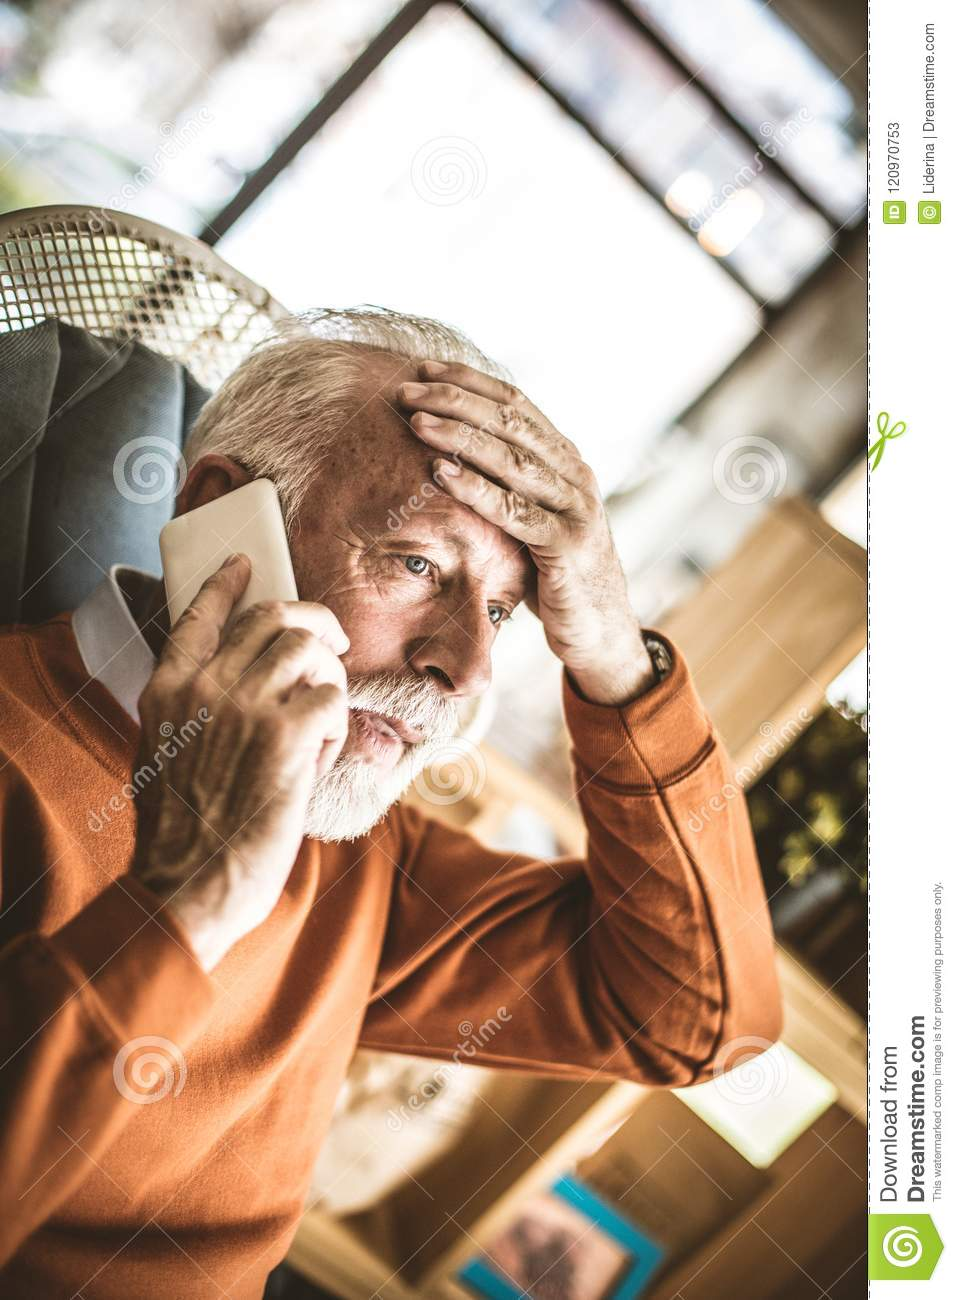phone: (159, 474, 304, 669)
talk: (135, 494, 520, 877)
